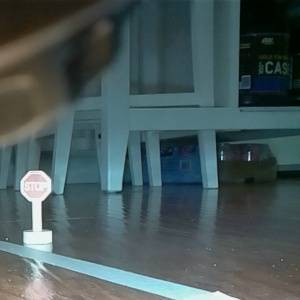stop sign: (17, 168, 56, 246)
